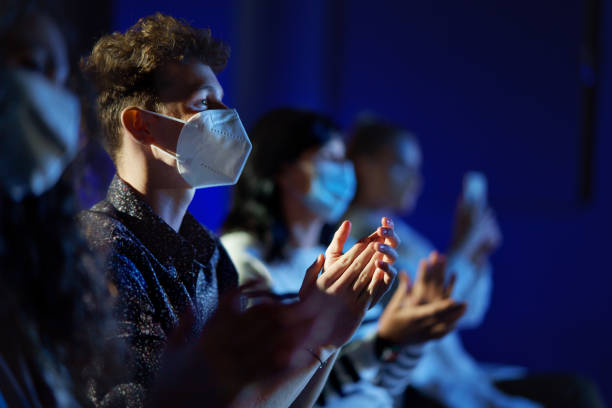with mask: (85, 25, 257, 192), (251, 102, 361, 223)
without mask: (354, 119, 433, 209)
